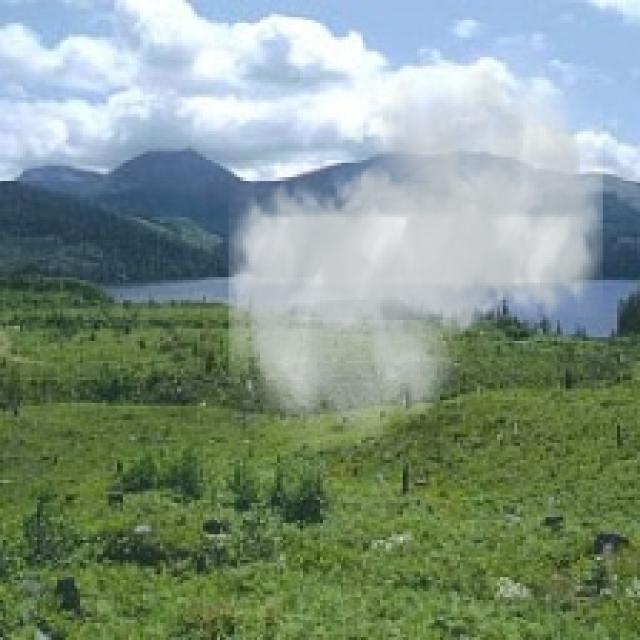Smoke: (228, 49, 603, 452)
